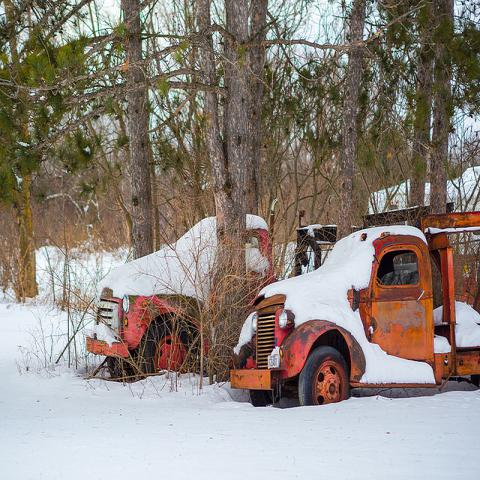truck: (229, 213, 480, 411), (85, 215, 336, 379)
